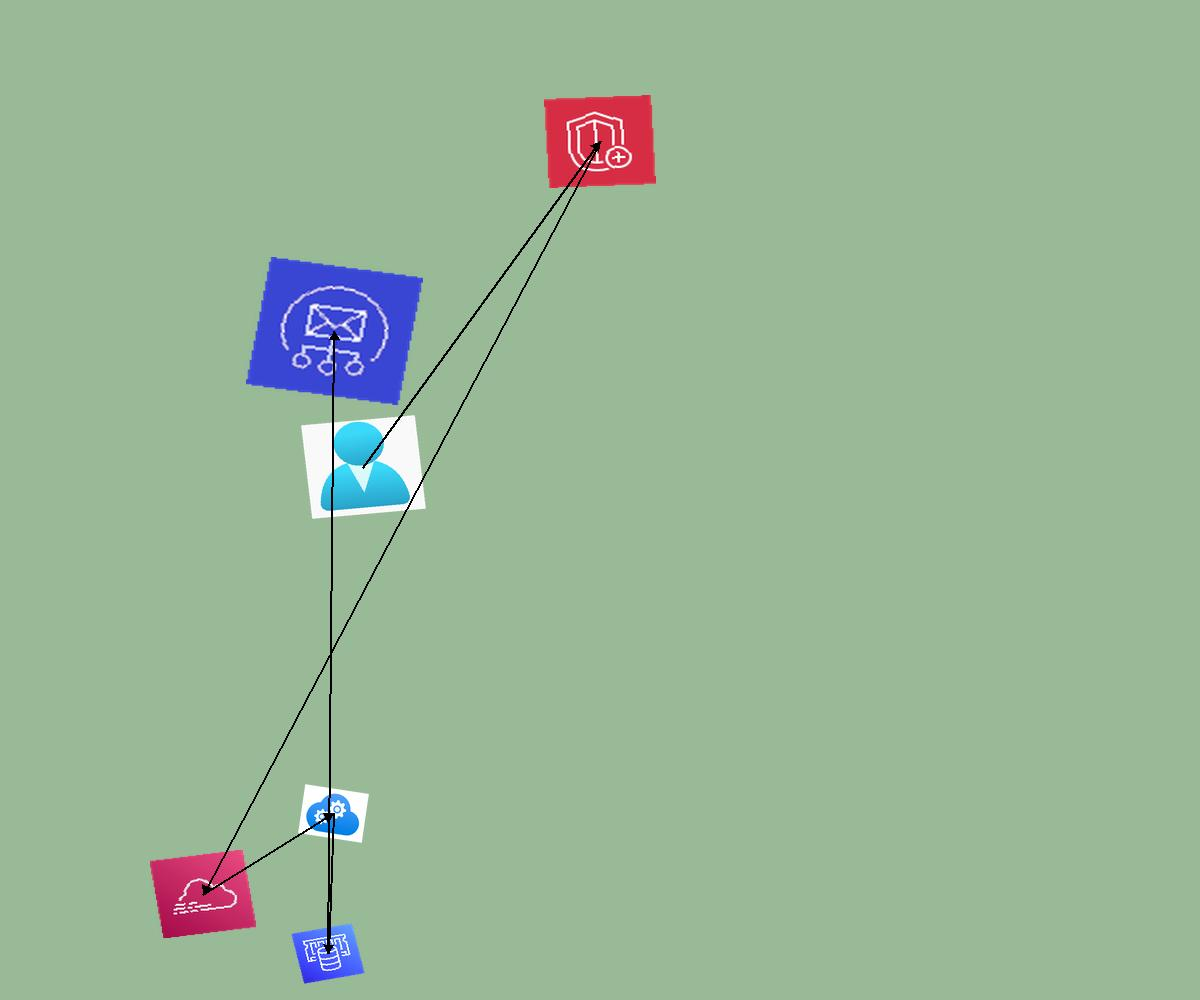AWS-CloudTrail: (149, 849, 257, 939)
AWS-ElastiCache: (291, 923, 365, 984)
AWS-Shield: (544, 95, 656, 188)
AWS-Simple-Email-Service: (246, 257, 423, 405)
Azure_cloud_services: (298, 784, 369, 843)
Azure_users: (301, 415, 426, 519)
